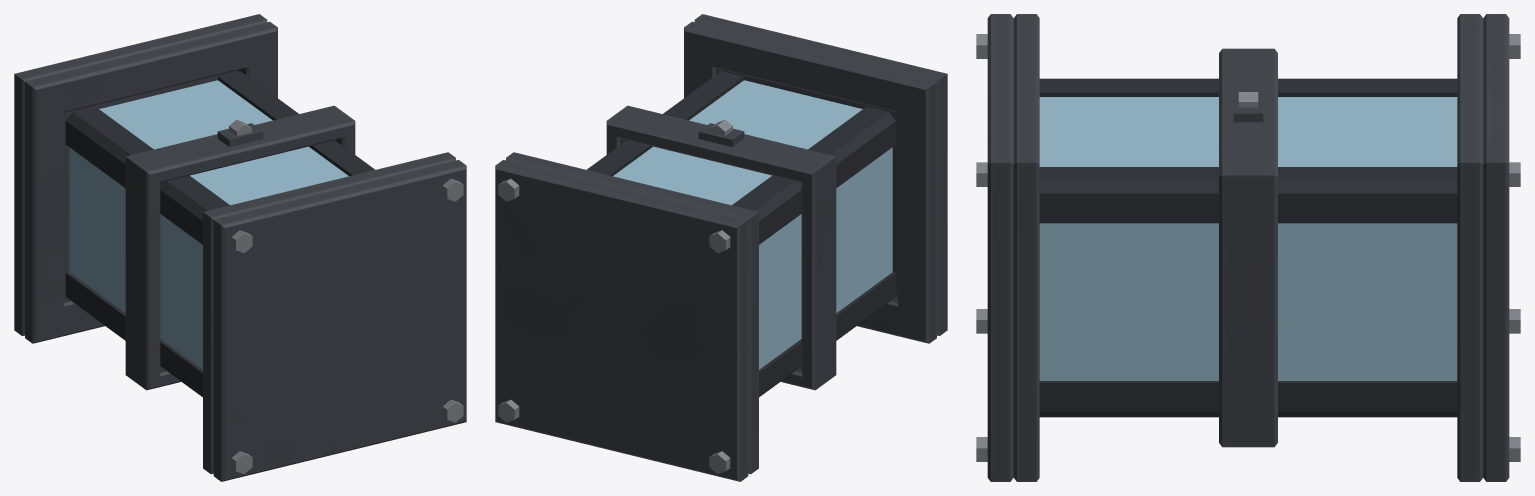
File: item.obj
3 renders of one model, left to right at view 1: azimuth 30°, elevation 25°; view 2: azimuth 150°, elevation 25°; view 3: azimuth 270°, elevation 25°, orthographic. The views are drawn at different scales.
Visible parts, largest first — view 1: item_blind1, item_panes, item_flange-1, item_band, item_rails, item_blind-1, item_flange1, item_flange1_nuts, item_band_lug; view 2: item_blind-1, item_panes, item_flange1, item_band, item_rails, item_blind1, item_flange-1, item_flange-1_nuts, item_band_lug; view 3: item_panes, item_rails, item_band, item_blind-1, item_flange-1, item_blind1, item_flange1, item_flange-1_nuts, item_flange1_nuts, item_band_lug.
Boxes of the visible parts, left/top/right/bottom form: item_blind1: left=213, top=160, right=466, bottom=481; item_panes: left=69, top=80, right=348, bottom=369; item_flange-1: left=25, top=21, right=277, bottom=343; item_band: left=125, top=105, right=355, bottom=390; item_rails: left=65, top=71, right=375, bottom=397; item_blind-1: left=14, top=14, right=267, bottom=335; item_flange1: left=203, top=152, right=455, bottom=474; item_flange1_nuts: left=231, top=178, right=463, bottom=474; item_band_lug: left=217, top=123, right=263, bottom=146; item_blind-1: left=495, top=160, right=748, bottom=481; item_panes: left=613, top=80, right=892, bottom=369; item_flange1: left=684, top=21, right=936, bottom=343; item_band: left=606, top=105, right=836, bottom=390; item_rails: left=586, top=71, right=896, bottom=397; item_blind1: left=694, top=14, right=947, bottom=335; item_flange-1: left=506, top=152, right=758, bottom=474; item_flange-1_nuts: left=498, top=178, right=730, bottom=474; item_band_lug: left=698, top=123, right=744, bottom=146; item_panes: left=1039, top=97, right=1457, bottom=380; item_rails: left=1039, top=78, right=1457, bottom=417; item_band: left=1219, top=48, right=1277, bottom=447; item_blind-1: left=1483, top=14, right=1509, bottom=481; item_flange-1: left=1457, top=14, right=1483, bottom=481; item_blind1: left=987, top=14, right=1013, bottom=481; item_flange1: left=1013, top=14, right=1039, bottom=481; item_flange-1_nuts: left=1509, top=34, right=1520, bottom=461; item_flange1_nuts: left=976, top=34, right=987, bottom=461; item_band_lug: left=1233, top=93, right=1263, bottom=122.
Bounding box in the file's own units: 0.675 × 0.675 × 1.04.
